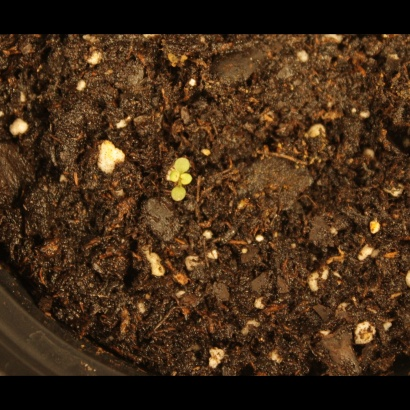leaf: (168, 152, 191, 175), (167, 186, 190, 209), (181, 171, 204, 194), (157, 167, 180, 190)
